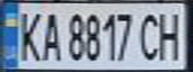1: (100, 9, 121, 62)
7: (115, 9, 136, 61)
8: (81, 8, 103, 61), (63, 8, 84, 62)
A: (36, 8, 63, 62)
C: (136, 8, 163, 61)
H: (154, 7, 190, 61)
K: (12, 7, 45, 63)
